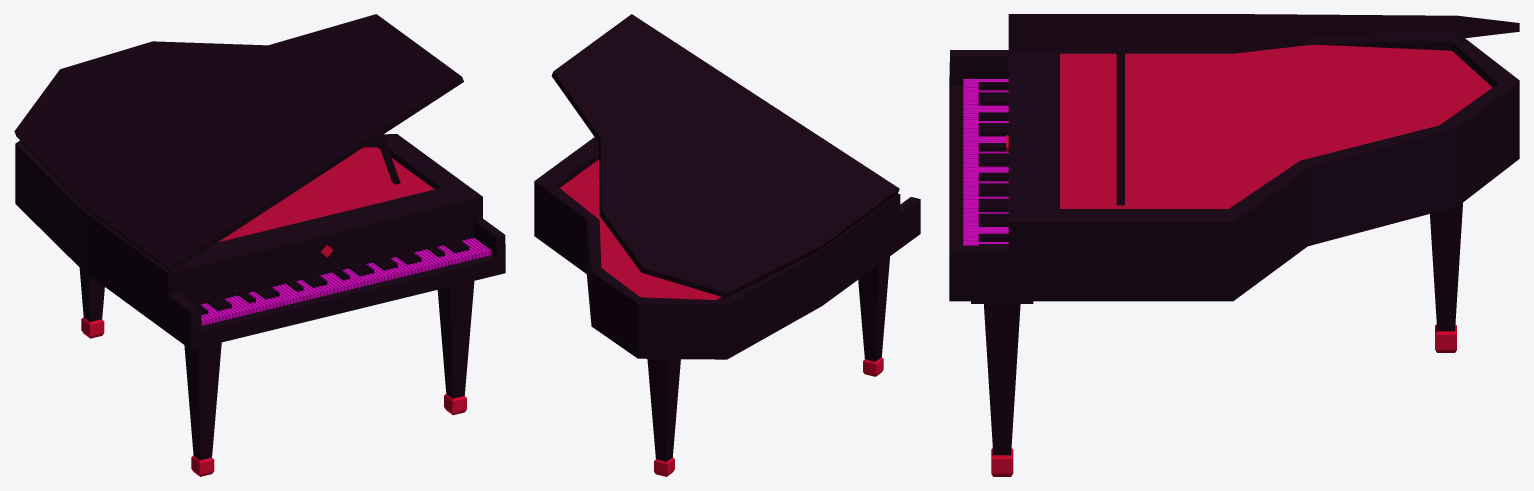
Rendered from Piano_01.fbx.
The picture shows the model from 3 angles, left to right: view 1: azimuth 30°, elevation 25°; view 2: azimuth 150°, elevation 25°; view 3: azimuth 270°, elevation 25°; orthographic projection. The views are drawn at different scales.
Visible parts, largest first — view 1: Piano_01; view 2: Piano_01; view 3: Piano_01.
Boxes of the visible parts, box(x1,y1,x2,y2) form: Piano_01: box(14, 14, 505, 476); Piano_01: box(534, 14, 920, 476); Piano_01: box(949, 14, 1519, 476).
Bounding box in the file's own units: 16.29 × 16.37 × 19.49.
